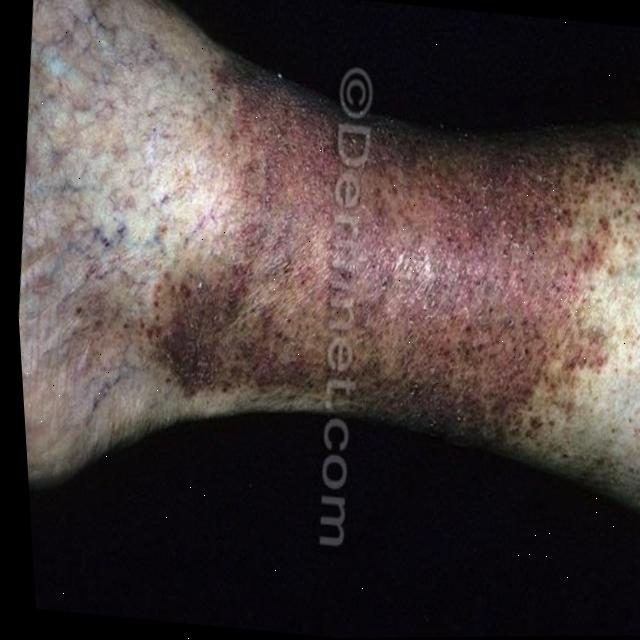Eczema: (137, 74, 640, 457)
